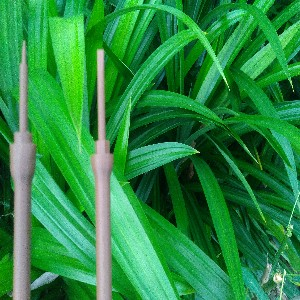obeng: (90, 47, 114, 300)
solder: (8, 39, 37, 300)
